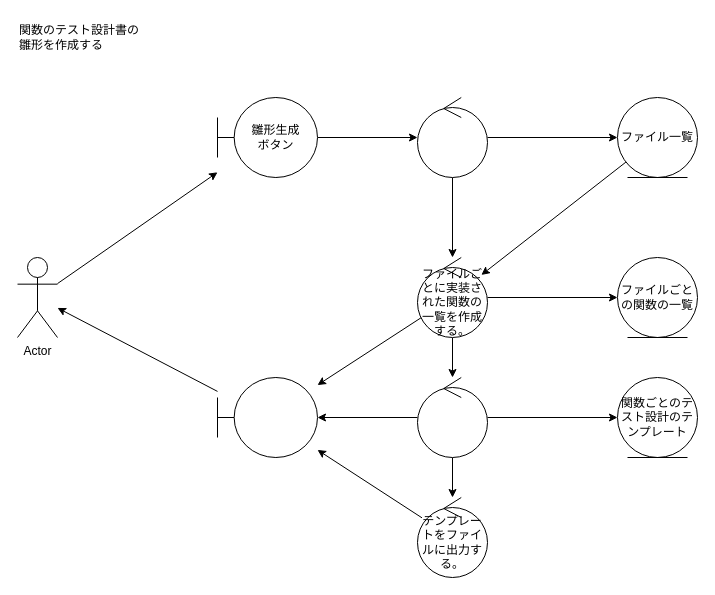
Image size: 715x595. Some labels were removed from this diagram. The box of each missing label's shape, as (x1, y1, x2, y2) in pixels:
ログ画面: (216, 376, 318, 458)
解析されたファイルの一覧を作成する。: (416, 96, 488, 178)
関数ごとのテスト設計書のテンプレートを作成する。: (416, 376, 488, 458)
